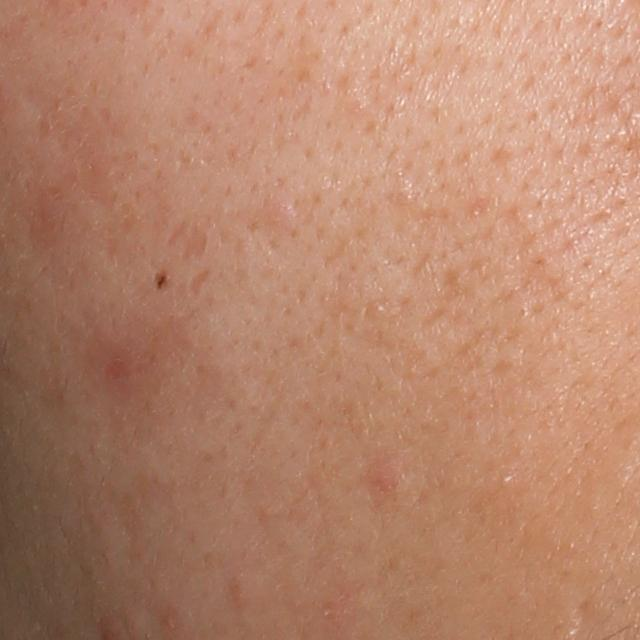atrophic_scar: (563, 594, 596, 640), (179, 225, 209, 263), (187, 266, 213, 299), (165, 221, 189, 249)
nevus: (152, 269, 172, 293)
papule: (367, 465, 401, 499)
